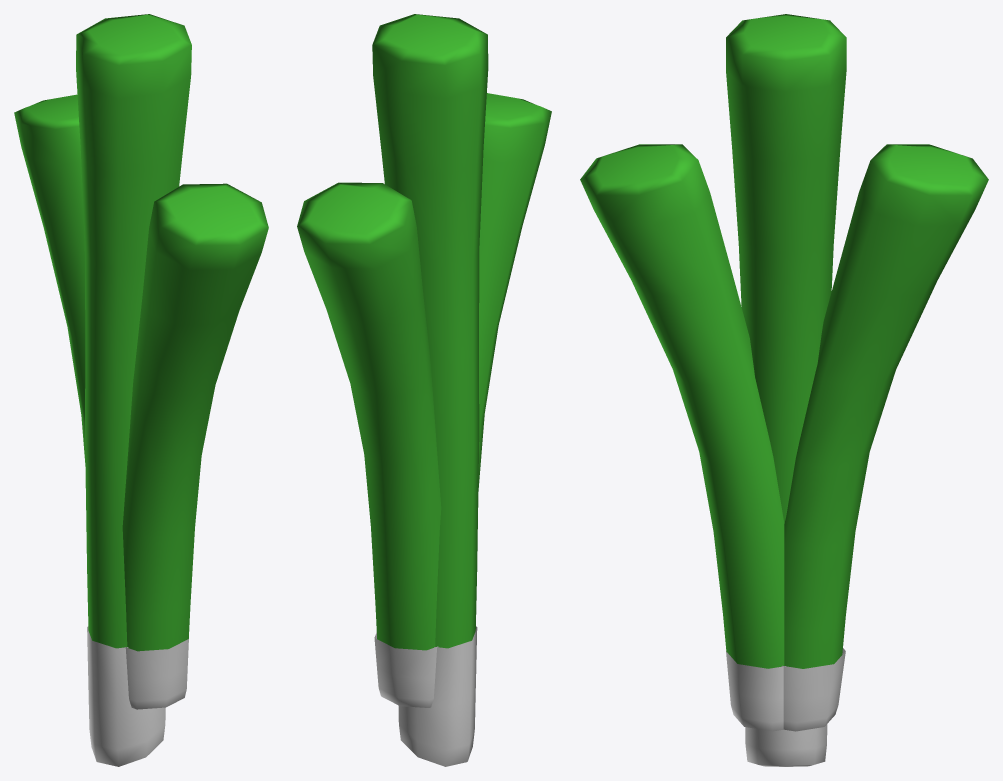
The model's file is 1ºFase_cebolla.fbx.
3 renders of one model, left to right at view 1: azimuth 30°, elevation 25°; view 2: azimuth 150°, elevation 25°; view 3: azimuth 270°, elevation 25°, orthographic. The views are drawn at different scales.
Visible parts, largest first — view 1: Cube.007, Cube.006, Cube.005, Cube.008, Cube.010; view 2: Cube.007, Cube.005, Cube.006, Cube.008, Cube.009; view 3: Cube.006, Cube.005, Cube.007, Cube.009, Cube.010, Cube.008.
Part boxes in pixels (x1,y1,x2,y2): Cube.007: (76,14,191,648); Cube.006: (122,183,268,651); Cube.005: (14,94,85,462); Cube.008: (87,626,165,766); Cube.010: (125,639,188,709); Cube.007: (372,14,488,648); Cube.005: (297,182,441,650); Cube.006: (478,93,551,491); Cube.008: (398,626,477,766); Cube.009: (374,632,438,707); Cube.006: (580,144,784,668); Cube.005: (784,144,988,668); Cube.007: (726,14,846,523); Cube.009: (782,648,845,731); Cube.010: (726,651,785,731); Cube.008: (745,724,827,766).
Bounding box in the file's own units: 10.84 × 69.22 × 34.45.
